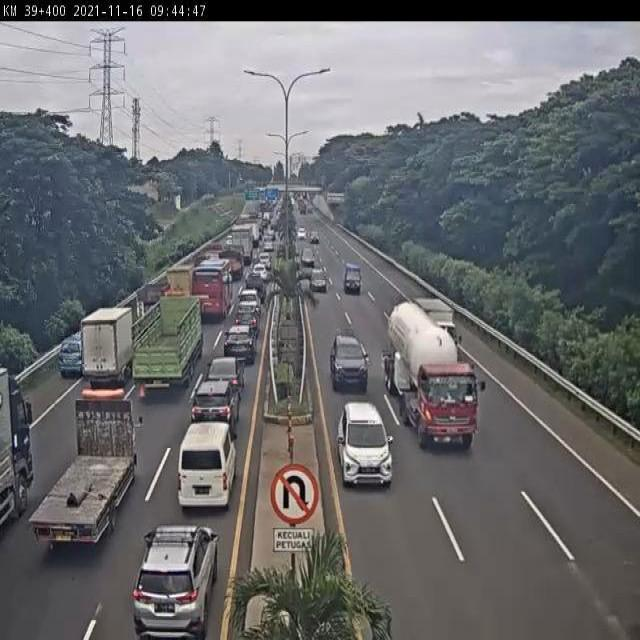big bus: (189, 260, 233, 323)
car: (128, 528, 216, 640), (336, 403, 393, 485), (188, 382, 236, 447), (331, 336, 372, 388), (205, 355, 246, 396), (56, 333, 88, 380), (223, 327, 255, 365), (232, 308, 259, 335), (236, 288, 261, 316)
small bus: (174, 426, 234, 510)
small truck: (416, 299, 467, 364), (163, 263, 196, 309)
truck-l-: (129, 296, 203, 396)
truck-m-: (30, 391, 143, 549), (80, 306, 133, 391), (134, 282, 172, 322)
truck-xl-: (384, 304, 481, 452)
